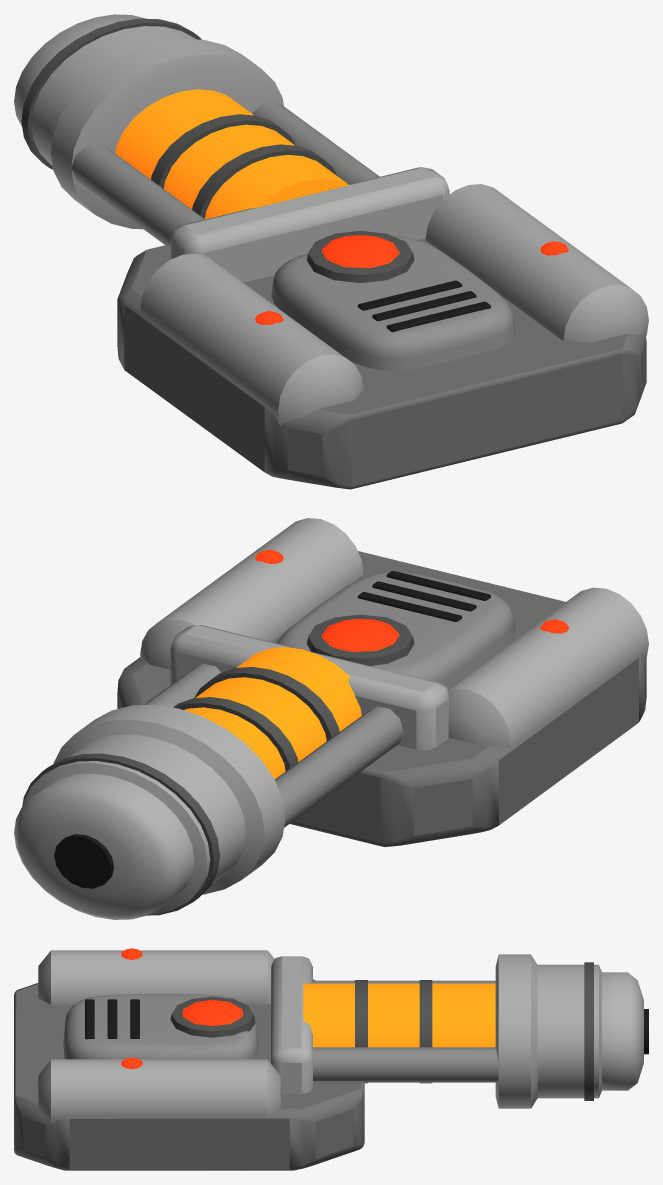
File: store_gun_4.glb
The picture shows the model from 3 angles, top to bottom: view 1: azimuth 30°, elevation 25°; view 2: azimuth 150°, elevation 25°; view 3: azimuth 270°, elevation 25°; orthographic projection. The views are drawn at different scales.
Parts seen in each view (by area): view 1: body, cap, pod_-1, pod_1, deck, collar, chamber, rail_-1, rail_1, lamp_rim, cap_band, chamber_ring_2.4 (+5 smaller); view 2: cap, body, pod_-1, pod_1, deck, chamber, collar, rail_-1, cap_band, bore, lamp_rim, chamber_ring_2.4 (+6 smaller); view 3: body, cap, pod_1, pod_-1, chamber, deck, rail_1, collar, lamp_rim, cap_band, lamp, chamber_ring_6.4 (+5 smaller).
Boxes of the visible parts, x1,y1,x2,y2 form: body: [117, 238, 646, 489]; cap: [14, 14, 283, 229]; pod_-1: [140, 253, 363, 425]; pod_1: [425, 184, 648, 342]; deck: [271, 236, 515, 370]; collar: [170, 167, 449, 282]; chamber: [115, 89, 349, 219]; rail_-1: [71, 144, 204, 248]; rail_1: [252, 100, 379, 184]; lamp_rim: [306, 230, 414, 282]; cap_band: [21, 18, 201, 169]; chamber_ring_2.4: [192, 144, 337, 218]; cap: [14, 704, 285, 919]; body: [117, 551, 646, 847]; pod_-1: [448, 587, 648, 747]; pod_1: [140, 518, 363, 669]; deck: [277, 571, 515, 688]; chamber: [183, 647, 361, 779]; collar: [170, 625, 449, 750]; rail_-1: [275, 706, 403, 827]; cap_band: [22, 753, 219, 915]; bore: [54, 834, 114, 888]; lamp_rim: [307, 614, 414, 666]; chamber_ring_2.4: [194, 667, 339, 741]; body: [14, 979, 364, 1170]; cap: [495, 954, 643, 1108]; pod_1: [38, 1059, 280, 1125]; pod_-1: [38, 950, 274, 1004]; chamber: [303, 983, 495, 1047]; deck: [63, 994, 258, 1059]; rail_1: [313, 1047, 498, 1082]; collar: [271, 956, 312, 1093]; lamp_rim: [170, 996, 255, 1037]; cap_band: [584, 962, 593, 1100]; lamp: [182, 999, 242, 1025]; chamber_ring_6.4: [419, 980, 432, 1083].
Bounding box in the file's own units: 21 × 9.3 × 39.3.
